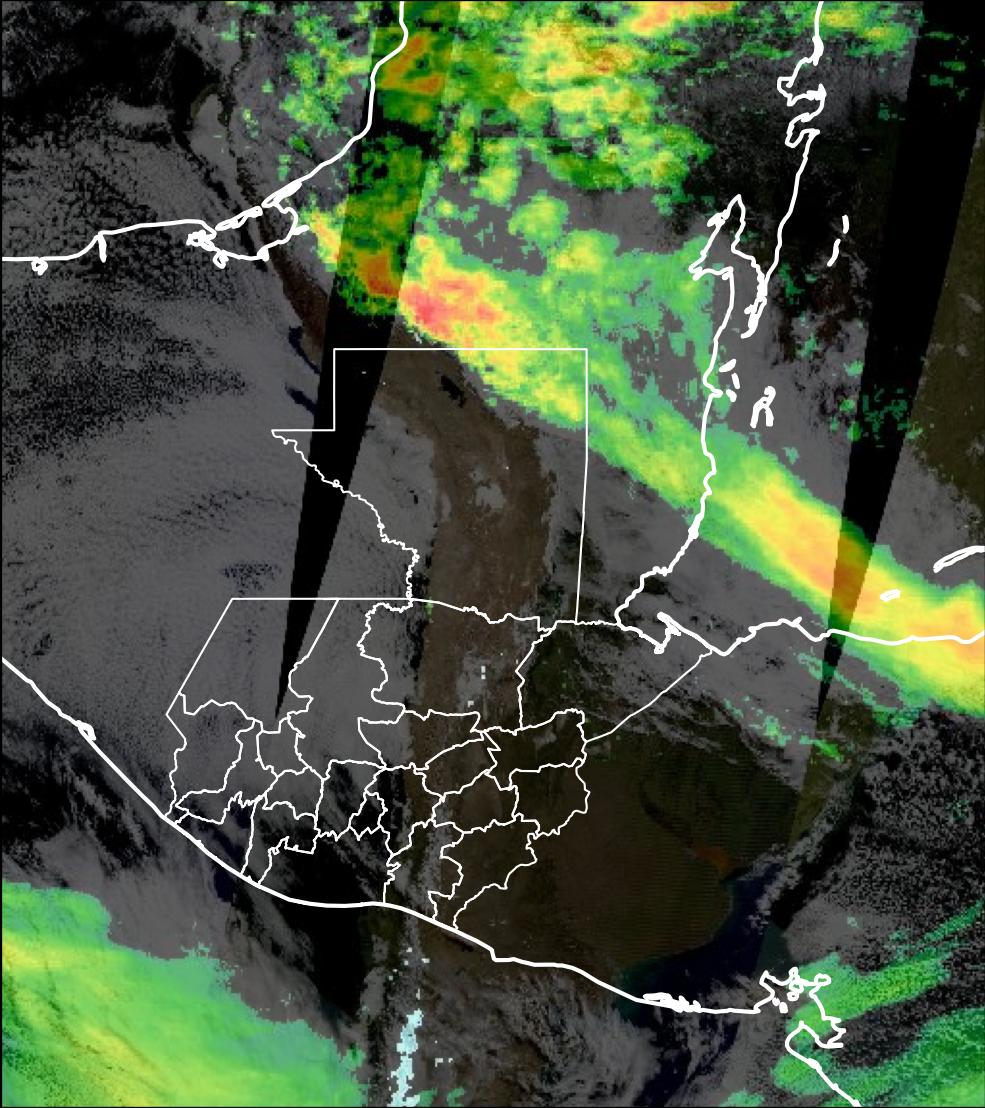precipitacion: (750, 488, 918, 629), (362, 237, 524, 361)
